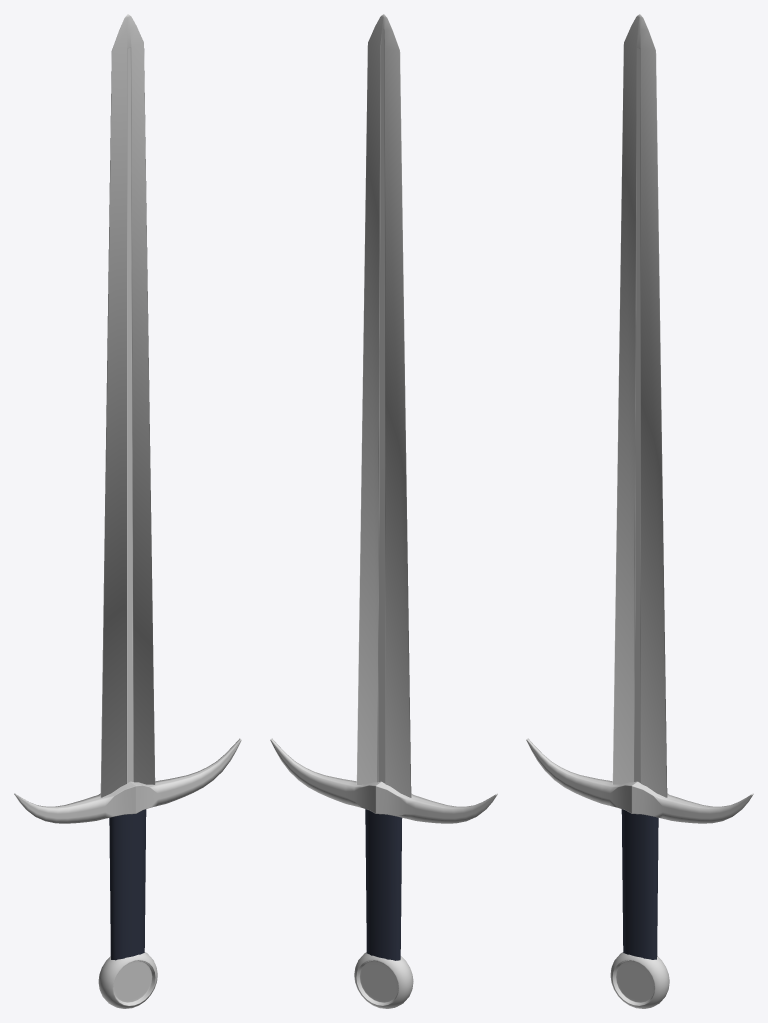
File: Sword.fbx
3 renders of one model, left to right at view 1: azimuth 30°, elevation 25°; view 2: azimuth 150°, elevation 25°; view 3: azimuth 330°, elevation 25°, orthographic.
Visible parts, largest first — view 1: Sword; view 2: Sword; view 3: Sword.
Part boxes in pixels (box(x1,y1,x2,y2)): Sword: box(14, 14, 241, 1008); Sword: box(270, 14, 497, 1008); Sword: box(526, 14, 753, 1008).
Size of the model in its own units: 0.986 by 4.13 by 0.1226.
